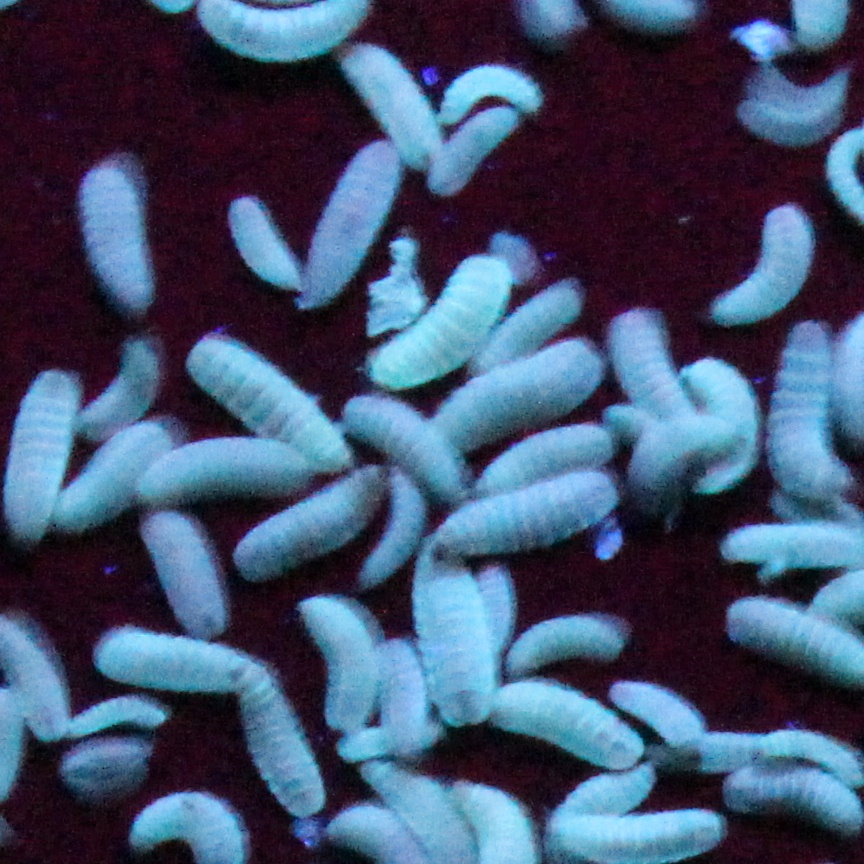larve: (184, 333, 353, 472), (299, 126, 403, 321), (367, 257, 511, 396), (129, 422, 321, 512), (443, 340, 596, 452), (402, 541, 492, 731), (437, 466, 627, 553), (48, 412, 182, 533), (233, 657, 324, 821), (340, 394, 470, 507), (489, 678, 649, 768), (712, 206, 818, 336), (349, 36, 447, 176), (601, 304, 699, 444), (136, 493, 226, 645), (70, 155, 155, 315), (99, 625, 276, 701), (289, 596, 384, 733), (65, 325, 164, 445), (680, 354, 764, 490), (619, 416, 752, 496), (200, 1, 372, 62), (225, 194, 319, 297), (502, 616, 629, 686), (622, 676, 716, 762), (481, 286, 574, 369), (434, 107, 517, 189), (436, 71, 551, 126), (379, 636, 432, 751), (54, 690, 172, 738), (694, 722, 794, 772), (466, 566, 517, 661)
